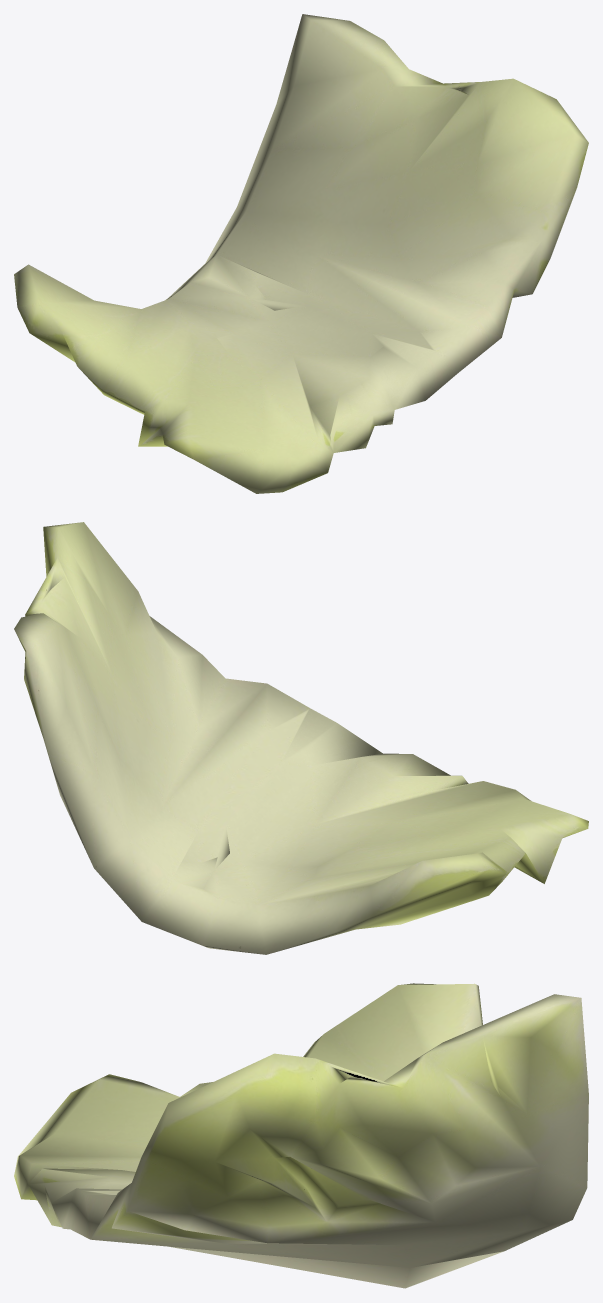
File: HAKUSAI.obj
3 views of the same model, one above another, from view 1: azimuth 30°, elevation 25°; view 2: azimuth 150°, elevation 25°; view 3: azimuth 270°, elevation 25° (orthographic). The views are drawn at different scales.
Visible parts, largest first — view 1: tripo_node_084f1e31; view 2: tripo_node_084f1e31; view 3: tripo_node_084f1e31.
Boxes of the visible parts, bbox=[...] form: tripo_node_084f1e31: bbox=[14, 14, 588, 493]; tripo_node_084f1e31: bbox=[14, 522, 588, 954]; tripo_node_084f1e31: bbox=[14, 983, 588, 1288].
Bounding box in the file's own units: 0.9832 × 0.5308 × 0.802.
Materials: 1 (1 with a texture image).
